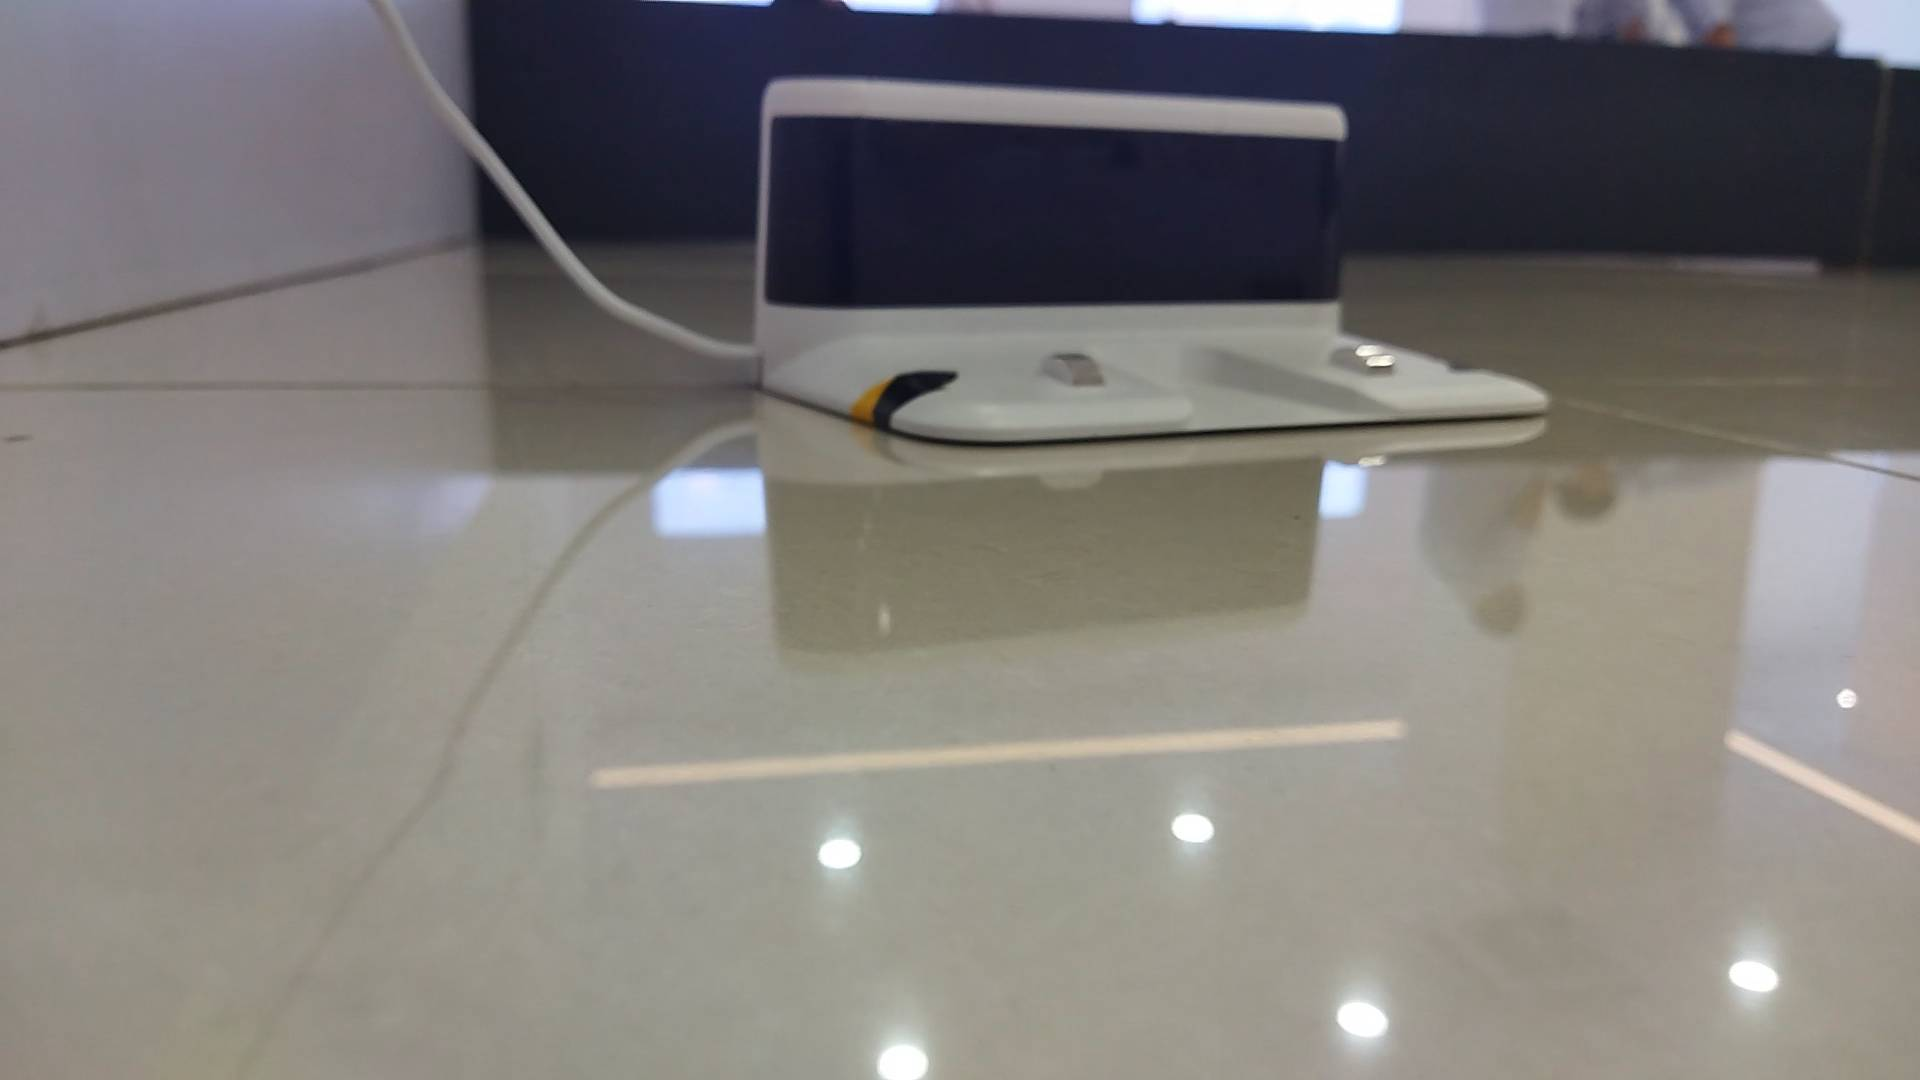recharge seat: (756, 76, 1549, 448)
